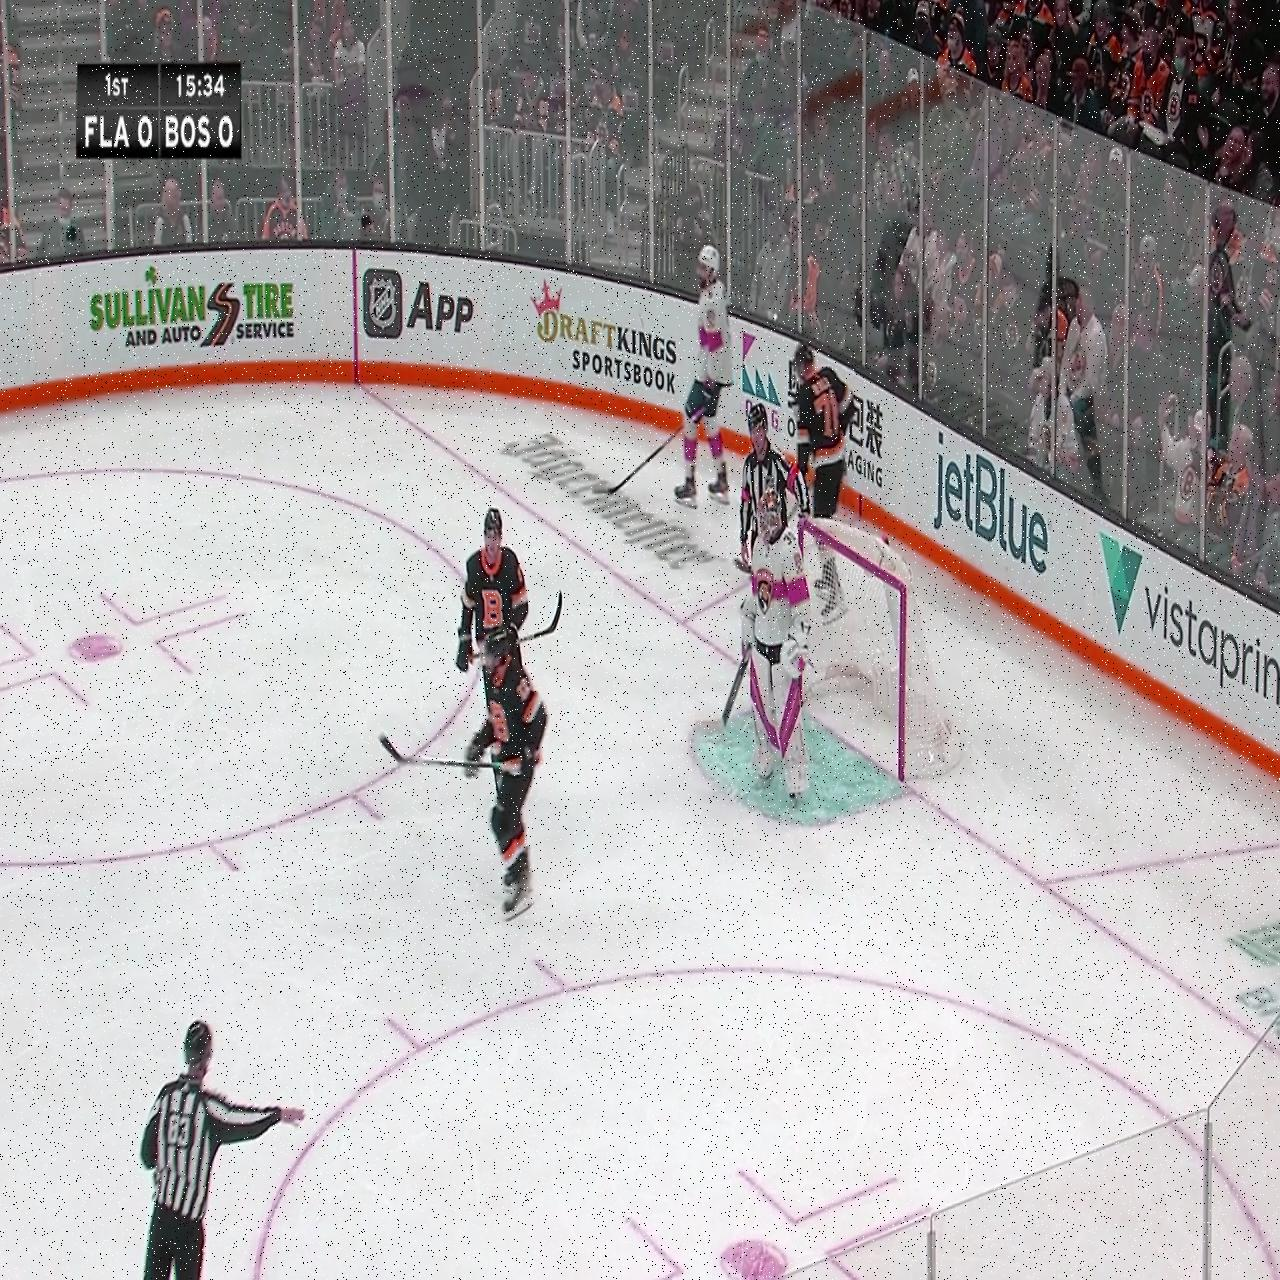Ad: (1097, 517, 1280, 744), (497, 424, 733, 579), (731, 312, 893, 501), (89, 259, 297, 368), (520, 271, 676, 413), (932, 416, 1057, 588), (361, 247, 475, 353), (1224, 884, 1279, 1043)
